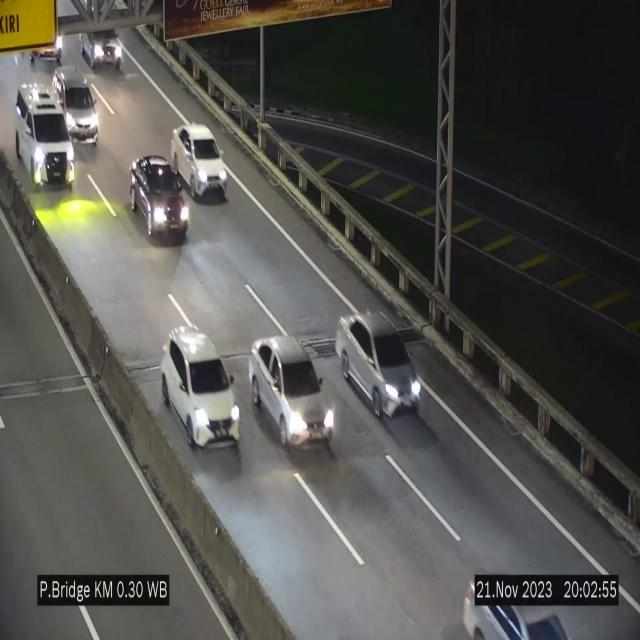Car: (453, 539, 572, 640), (248, 336, 338, 447), (162, 327, 240, 448), (336, 312, 424, 419), (11, 87, 79, 202), (126, 154, 192, 240), (171, 124, 227, 199), (50, 65, 100, 147), (75, 16, 135, 72), (30, 28, 68, 68)
